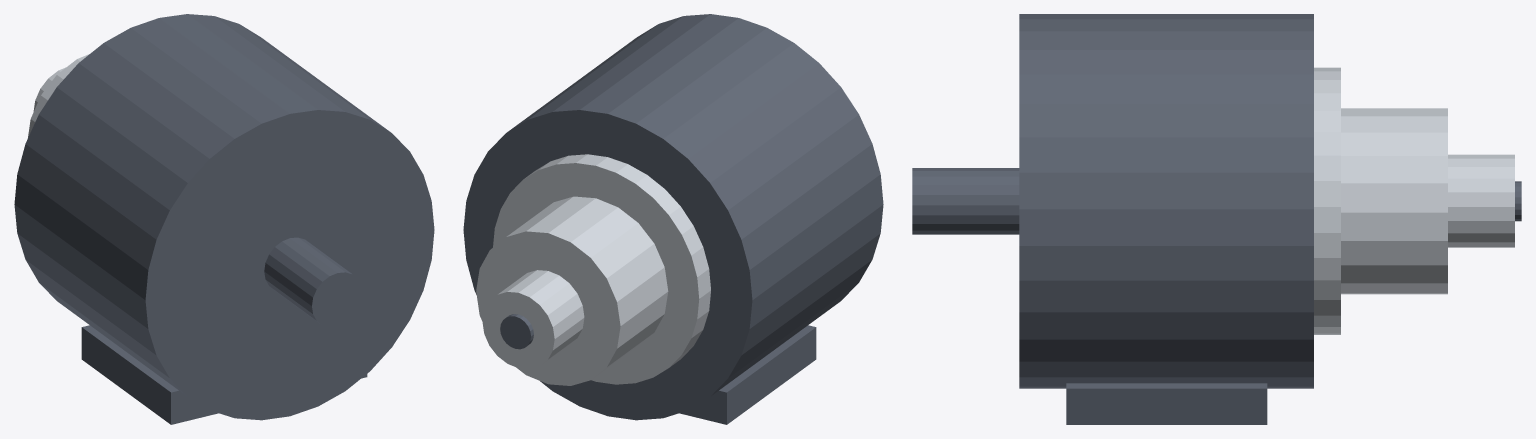
Rendered from oband-head-81624b.glb.
3 views of the same model, side by side, from view 1: azimuth 30°, elevation 25°; view 2: azimuth 150°, elevation 25°; view 3: azimuth 270°, elevation 25° (orthographic). The views are drawn at different scales.
Parts seen in each view (by area): view 1: black optical head enclosure, black electrical cable stub, black head support, silver adapter body; view 2: black optical head enclosure, silver adapter body, silver front ring, silver FC coupling sleeve, black head support, black optical aperture; view 3: black optical head enclosure, silver adapter body, black head support, silver front ring, black electrical cable stub, silver FC coupling sleeve.
Part boxes in pixels (bbox=[...]): black optical head enclosure: bbox=[14, 14, 434, 420]; black electrical cable stub: bbox=[264, 237, 363, 327]; black head support: bbox=[81, 325, 367, 424]; silver adapter body: bbox=[28, 54, 89, 137]; black optical head enclosure: bbox=[463, 14, 883, 420]; silver adapter body: bbox=[476, 196, 668, 385]; silver front ring: bbox=[493, 154, 710, 384]; silver FC coupling sleeve: bbox=[482, 270, 584, 369]; black head support: bbox=[679, 325, 816, 424]; black optical aperture: bbox=[500, 314, 533, 349]; black optical head enclosure: bbox=[1019, 14, 1313, 388]; silver adapter body: bbox=[1341, 108, 1447, 294]; black head support: bbox=[1066, 383, 1267, 424]; silver front ring: bbox=[1314, 67, 1340, 334]; black electrical cable stub: bbox=[912, 168, 1019, 234]; silver FC coupling sleeve: bbox=[1448, 154, 1514, 247].
Size of the model in its own units: 0.056 by 0.056 by 0.091.
